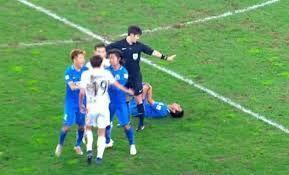Fall-Detected: (109, 79, 184, 126)
